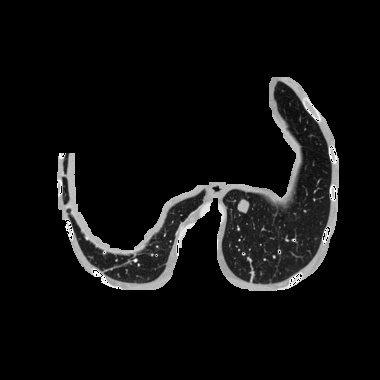PN: (237, 200, 249, 212)
